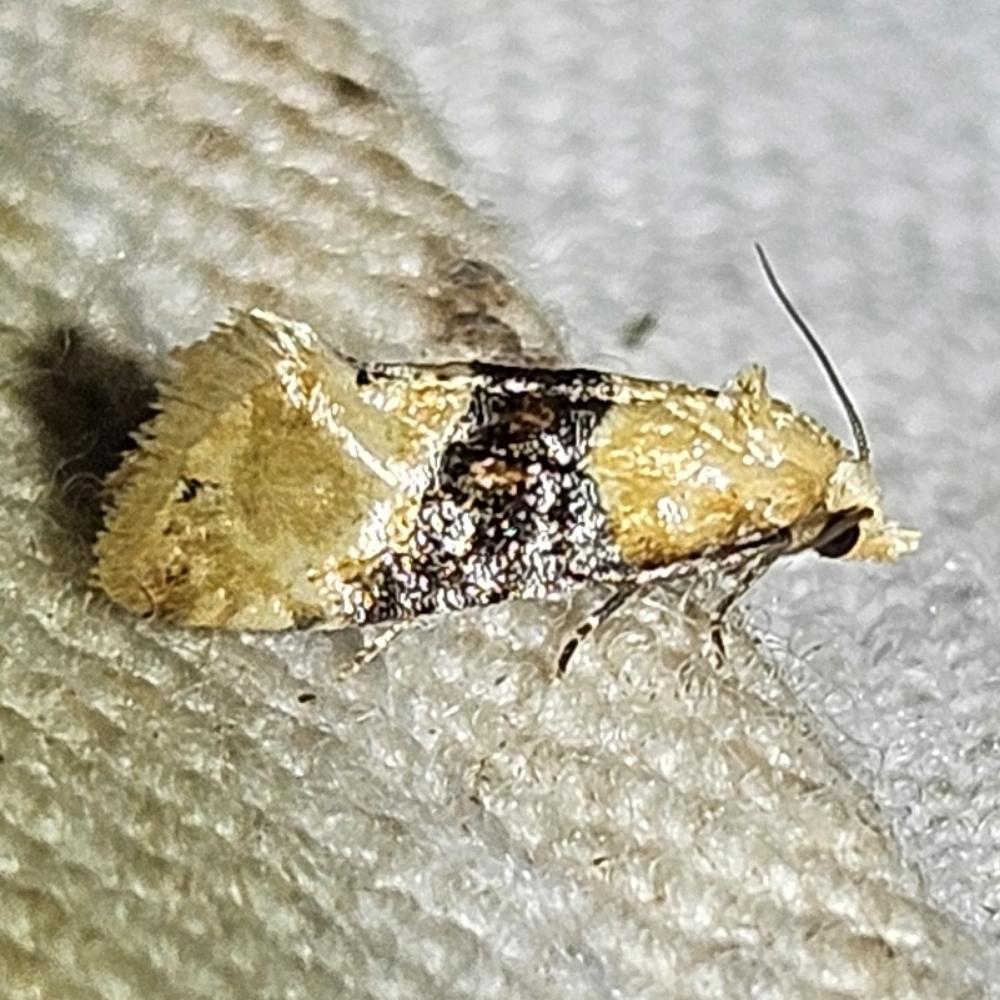Eupoecilia Ambiguella: (80, 239, 923, 684)
